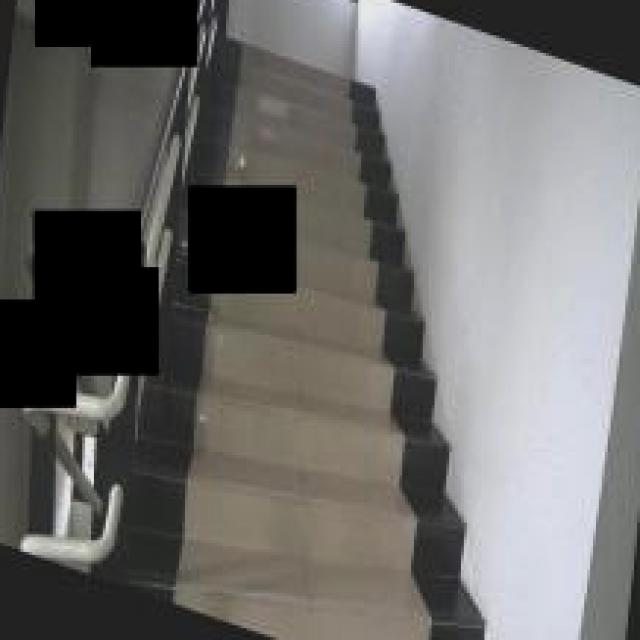upstair: (177, 300, 439, 640)
